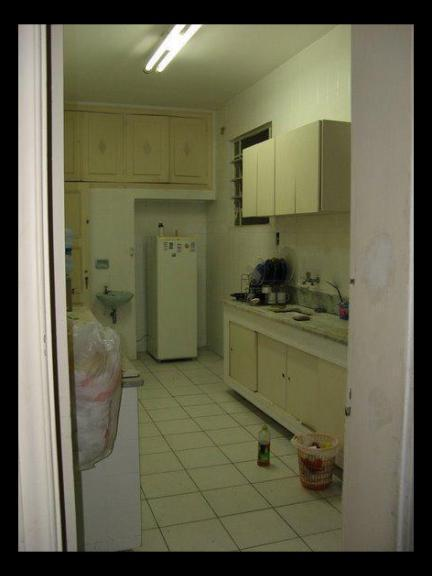Bote de Basura: (288, 432, 341, 494)
Electrodomestico: (148, 234, 197, 361)
Lavamanos: (98, 283, 134, 327)
Lavaplatos: (270, 272, 319, 320)
Otro Obstaculo: (68, 319, 125, 473), (250, 419, 273, 472)
